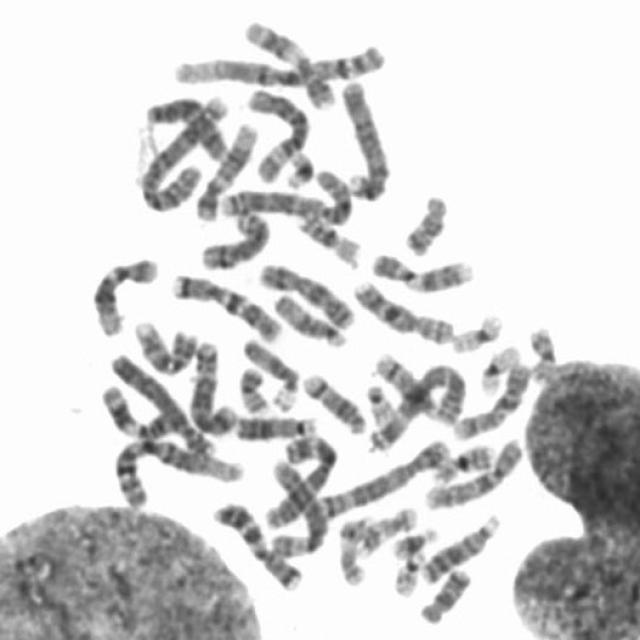A1: (170, 38, 390, 89), (107, 432, 248, 509)
A2: (138, 89, 232, 216), (216, 164, 356, 226)
A3: (364, 356, 470, 454), (261, 429, 340, 534)
B4: (104, 346, 220, 462), (335, 74, 392, 202)
B5: (309, 433, 454, 522), (184, 335, 240, 437)
C10: (420, 430, 528, 511), (448, 358, 534, 442)
C11: (240, 12, 336, 112), (96, 379, 183, 440)
C12: (193, 115, 262, 224), (88, 250, 160, 338)
C6: (240, 80, 314, 184), (264, 448, 332, 560)
C7: (209, 497, 306, 592), (167, 267, 286, 343)
C8: (348, 272, 458, 345), (194, 206, 272, 272)
C9: (366, 246, 477, 295), (127, 313, 200, 377)
D13: (417, 508, 504, 585), (230, 408, 320, 442)
D14: (369, 346, 442, 421), (298, 366, 369, 436)
D15: (267, 286, 350, 349), (238, 332, 302, 413)
E16: (291, 207, 362, 269), (426, 436, 498, 486)
E17: (352, 499, 420, 558), (333, 511, 370, 587)
E18: (415, 562, 475, 626), (398, 188, 451, 257)
F19: (447, 307, 505, 354), (476, 339, 522, 395)
F20: (523, 320, 560, 384), (234, 360, 271, 416)
G21: (388, 521, 440, 561), (280, 144, 317, 190)
G22: (388, 546, 428, 597), (361, 378, 398, 427)
X: (255, 257, 357, 330), (140, 89, 230, 162)
